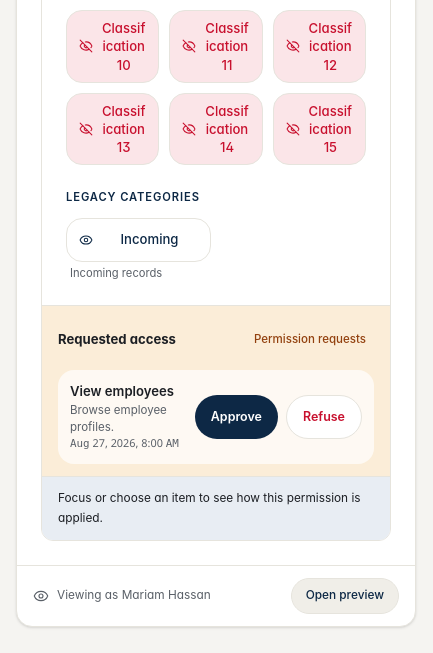
Scenario: PermissionsPage Mirror editor › keeps the desktop mirror unmounted until the workspace preview strip is opened
The image size is (433, 653).
(page scrolled)
Expected: the text "Viewing as Mariam Hassan" is shown, [57,587,211,605]
Click the button "Open preview" at (345, 596), box [291,578,399,614]
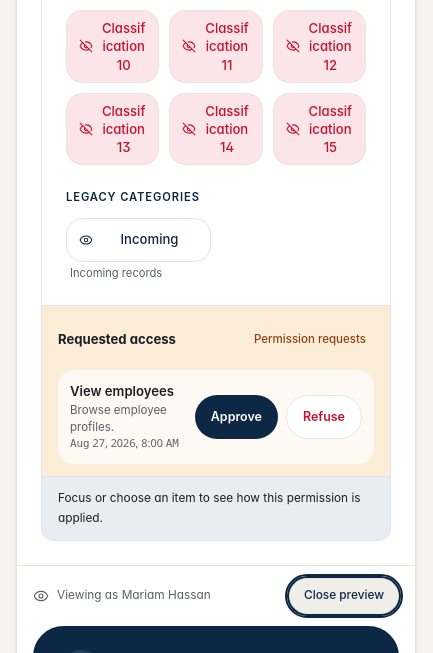
Result: the button "Close preview" is expanded
Result: the button "Open preview" is gone
Click the button "Close preview" at (344, 596), box [289,578,399,614]
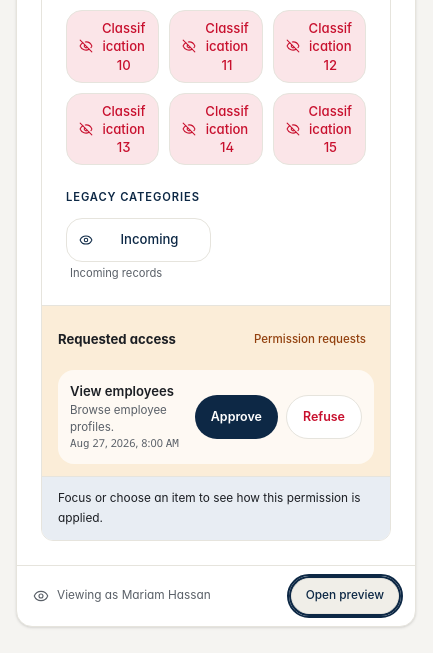
Result: the button "Open preview" is shown at [291,578,399,614]
